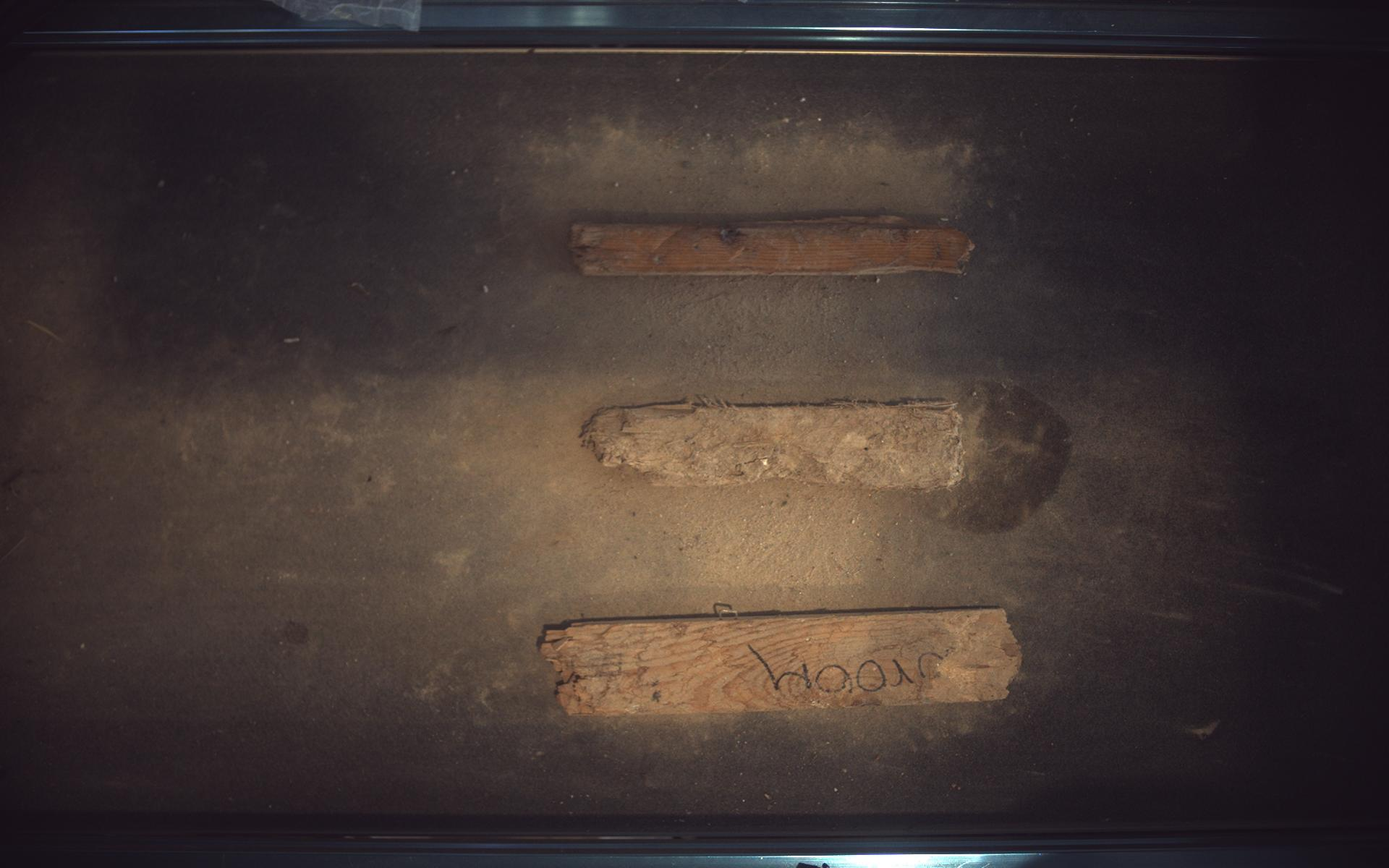wood: (540, 609, 1024, 716), (582, 400, 966, 491), (572, 216, 977, 275)
